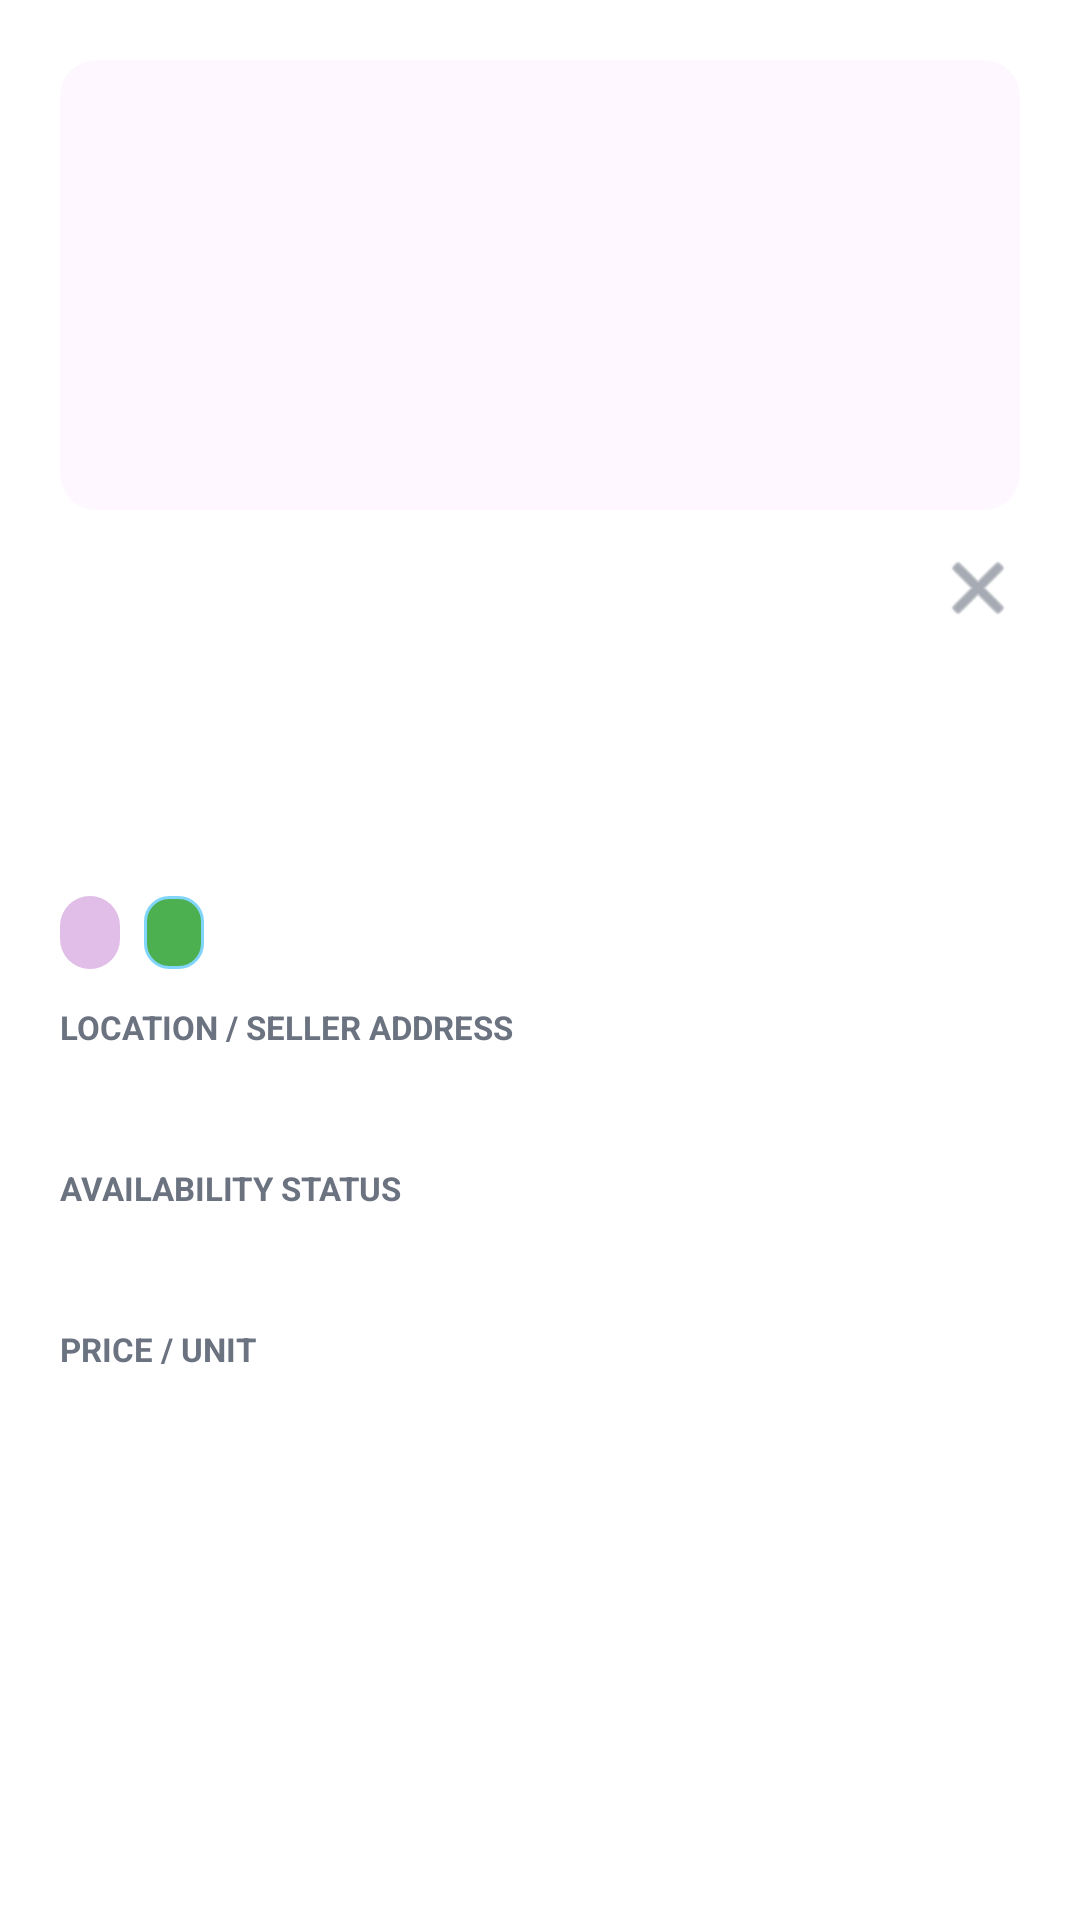

Icons on this 1080px×1920px Android screen, each with its box as BBox(x1, y1, x2, y2):
close clear cancel: BBox(952, 562, 1004, 614)
